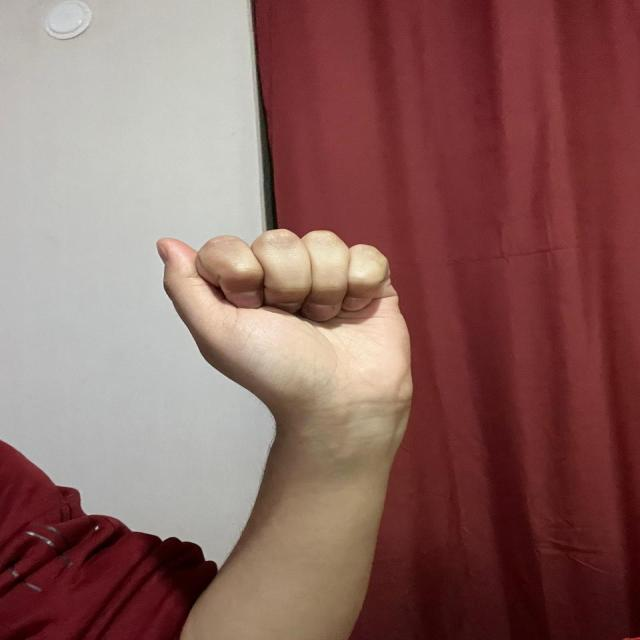A: (149, 224, 424, 415)
